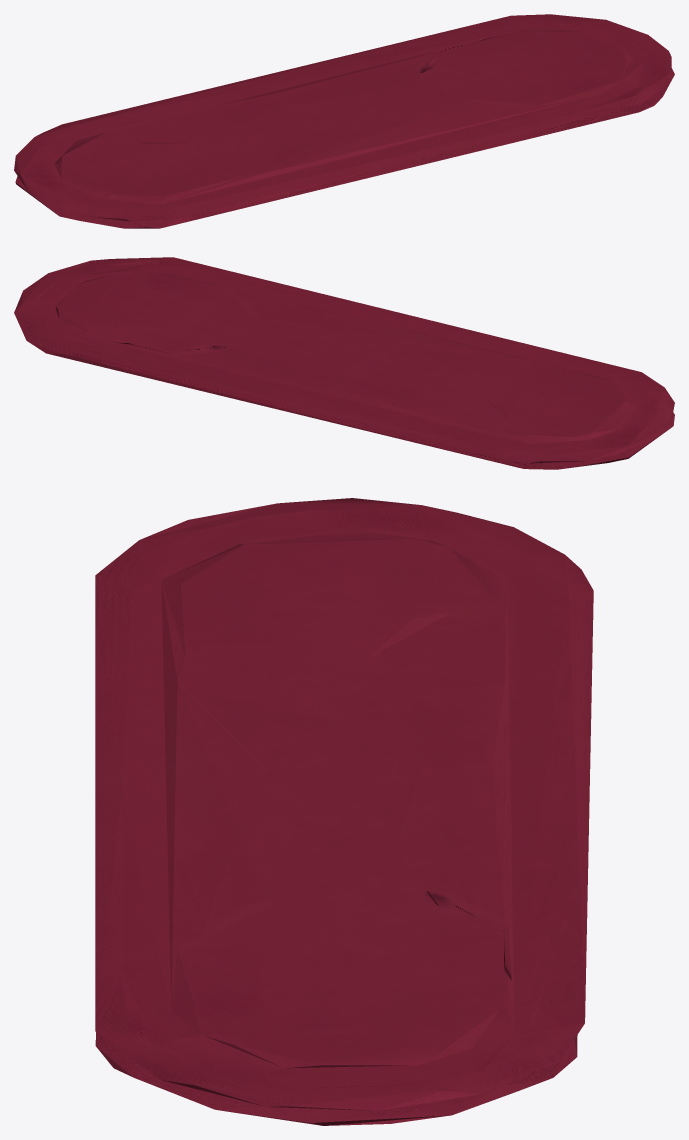
Rendered from PR_HoundWaitingMat.fbx.
The picture shows the model from 3 angles, top to bottom: view 1: azimuth 30°, elevation 25°; view 2: azimuth 150°, elevation 25°; view 3: azimuth 270°, elevation 25°; orthographic projection. The views are drawn at different scales.
Visible parts, largest first — view 1: Mesh_0; view 2: Mesh_0; view 3: Mesh_0.
Part boxes in pixels (bbox=[...]): Mesh_0: bbox=[14, 14, 674, 228]; Mesh_0: bbox=[14, 257, 674, 469]; Mesh_0: bbox=[95, 498, 593, 1125].
Bounding box in the file's own units: 189 × 4.73 × 65.32.
Materials: 1 (1 with a texture image).
